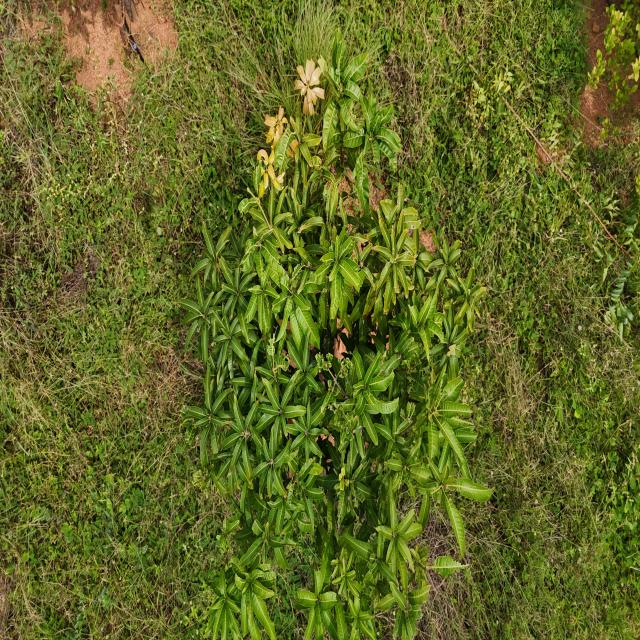mangoTree: (173, 32, 495, 640)
